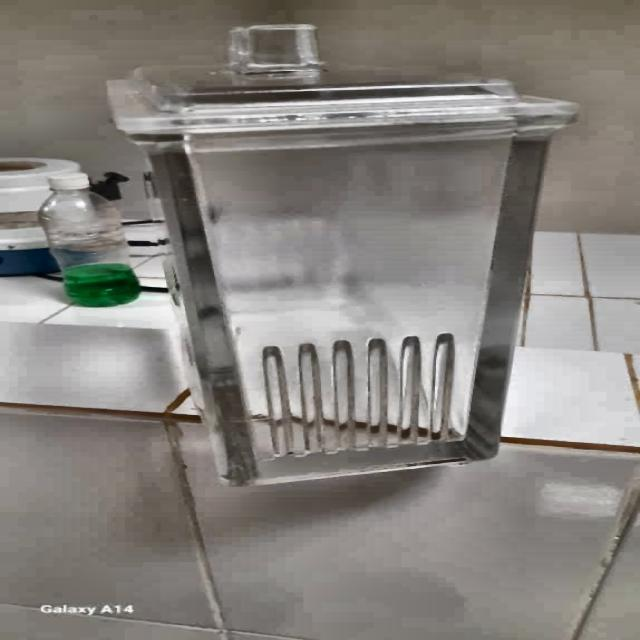TLC Tank: (95, 16, 585, 491)
